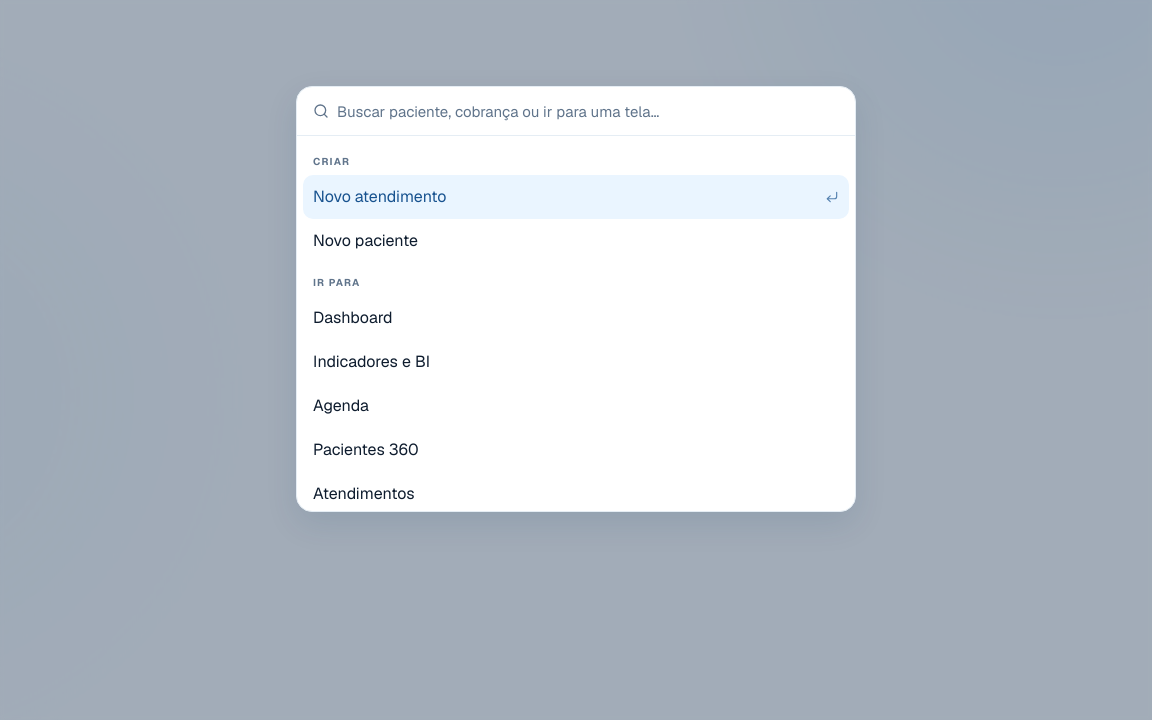
filtragem › reduz a lista conforme o texto
The image size is (1152, 720).
Type "financeiro" into the dropdown at point(588, 111), box [337, 87, 839, 135]
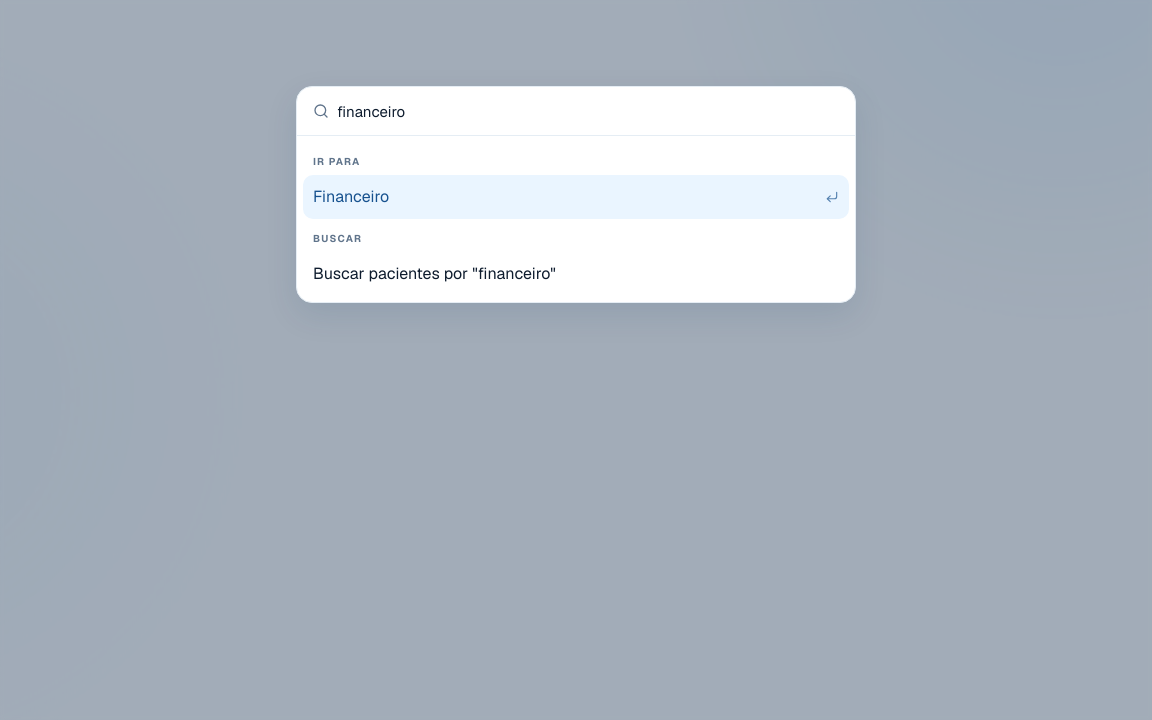
Expected: the text "Financeiro" is shown, [313, 186, 389, 207]
